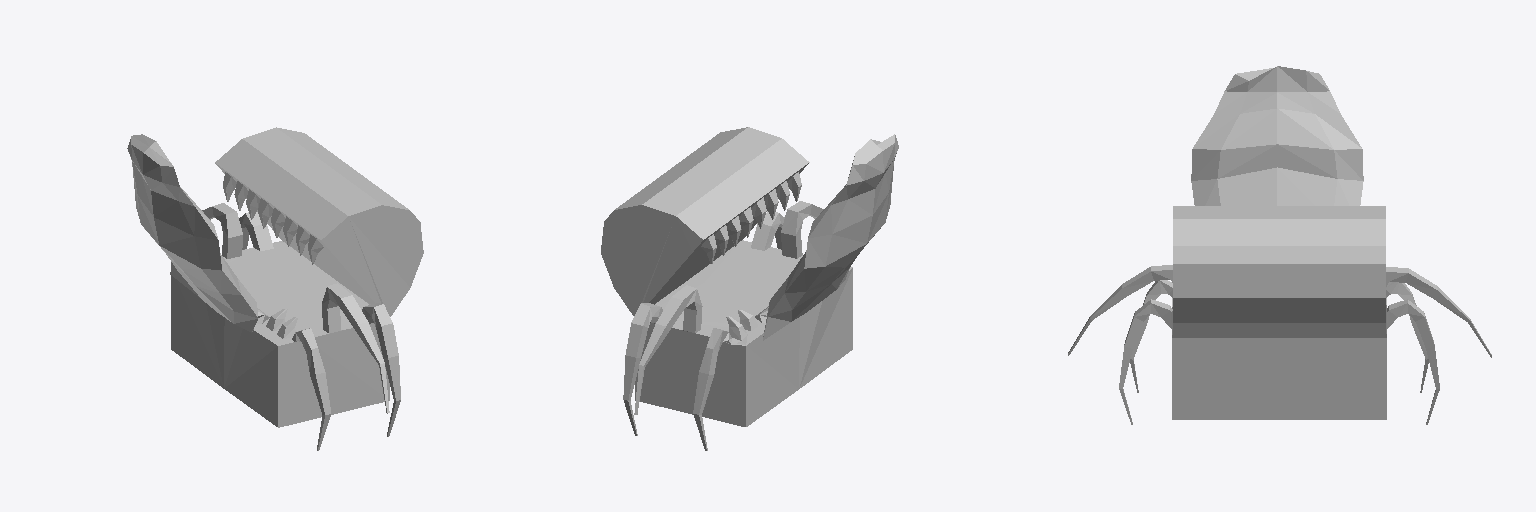
Rendered from cofrearana_000054.obj.
3 views of the same model, side by side, from view 1: azimuth 30°, elevation 25°; view 2: azimuth 150°, elevation 25°; view 3: azimuth 270°, elevation 25° (orthographic).
Parts seen in each view (by area): view 1: cofreArana:Mesh; view 2: cofreArana:Mesh; view 3: cofreArana:Mesh.
Part boxes in pixels (x1,y1,x2,y2): cofreArana:Mesh: (127, 127, 423, 450); cofreArana:Mesh: (601, 127, 898, 450); cofreArana:Mesh: (1068, 66, 1491, 424).
Size of the model in its own units: 7.81 by 9.17 by 12.55.